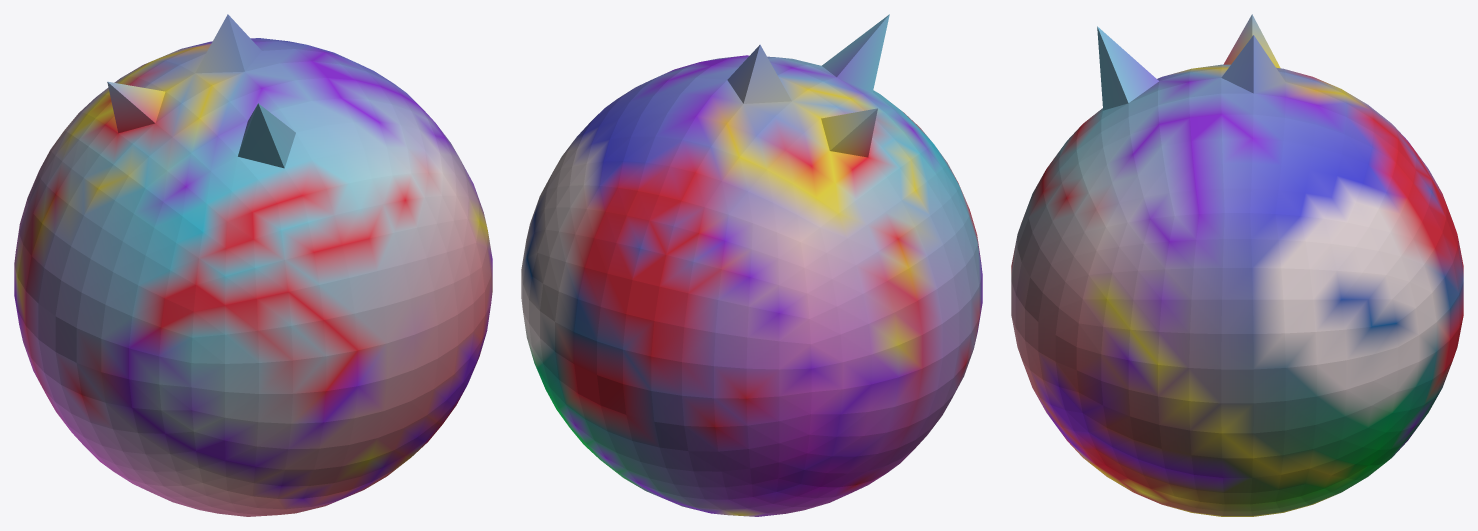
3 renders of one model, left to right at view 1: azimuth 30°, elevation 25°; view 2: azimuth 150°, elevation 25°; view 3: azimuth 270°, elevation 25°, orthographic. The views are drawn at different scales.
Visible parts, largest first — view 1: Cube; view 2: Cube; view 3: Cube.
Part boxes in pixels (bbox=[...]): Cube: bbox=[14, 14, 492, 516]; Cube: bbox=[521, 14, 982, 516]; Cube: bbox=[1011, 14, 1463, 516].
Size of the model in its own units: 3.44 by 3.44 by 3.8.
